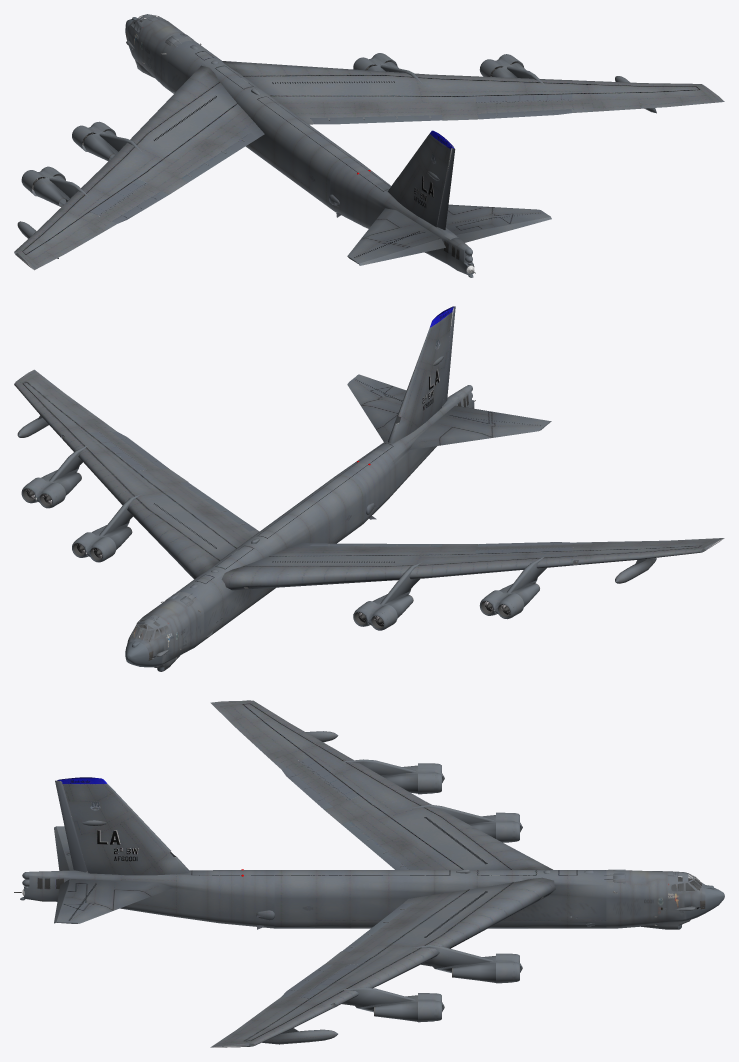
The picture shows the model from 3 angles, top to bottom: view 1: azimuth 30°, elevation 25°; view 2: azimuth 150°, elevation 25°; view 3: azimuth 270°, elevation 25°; orthographic projection. The views are drawn at different scales.
Parts seen in each view (by area): view 1: body|Wing0.5, body|Wing2, body|material_2, body|HStab, body|material_3, body|VertStab1, body|Engine2, body|material_1, body|Wing4, body|Engine1, body|Wing3, body|Rudder2; view 2: body|Wing0.5, body|Wing2, body|material_2, body|HStab, body|material_3, body|Engine2, body|VertStab1, body|Engine1, body|material_1, body|Wing4, body|Wing1, body|Wing3 (+2 smaller); view 3: body|Wing2, body|material_2, body|Wing0.5, body|material_3, body|VertStab2, body|Engine1, body|material_1, body|HStab, body|Engine2, body|Wing4, body|Wing3, body|Rudder1 (+1 smaller).
Part boxes in pixels (x1,y1,x2,y2): body|Wing0.5: [222, 61, 724, 124]; body|Wing2: [14, 65, 394, 270]; body|material_2: [168, 41, 358, 210]; body|HStab: [347, 204, 551, 265]; body|material_3: [329, 159, 474, 277]; body|VertStab1: [388, 131, 454, 226]; body|Engine2: [17, 121, 141, 258]; body|material_1: [126, 14, 196, 91]; body|Wing4: [112, 109, 571, 223]; body|Engine1: [353, 53, 656, 113]; body|Wing3: [90, 94, 573, 216]; body|Rudder2: [437, 147, 455, 229]; body|Wing0.5: [14, 369, 259, 578]; body|Wing2: [153, 503, 724, 587]; body|material_2: [168, 473, 366, 641]; body|HStab: [347, 374, 551, 449]; body|material_3: [338, 385, 474, 521]; body|Engine2: [353, 557, 656, 630]; body|VertStab1: [389, 306, 454, 443]; body|Engine1: [17, 415, 141, 562]; body|material_1: [126, 591, 204, 665]; body|Wing4: [112, 431, 571, 546]; body|Wing1: [227, 540, 721, 590]; body|Wing3: [90, 431, 573, 553]; body|Wing2: [210, 700, 552, 937]; body|material_2: [274, 869, 606, 928]; body|Wing0.5: [210, 877, 555, 1047]; body|material_3: [20, 870, 274, 929]; body|VertStab2: [57, 777, 190, 875]; body|Engine1: [262, 945, 522, 1044]; body|material_1: [604, 869, 705, 928]; body|HStab: [54, 826, 173, 923]; body|Engine2: [306, 731, 522, 842]; body|Wing4: [281, 767, 413, 996]; body|Wing3: [298, 757, 358, 998]; body|Rudder1: [55, 780, 87, 872].
Size of the model in its own units: 55.98 by 11.14 by 48.78.
27 materials, 22 textured.
